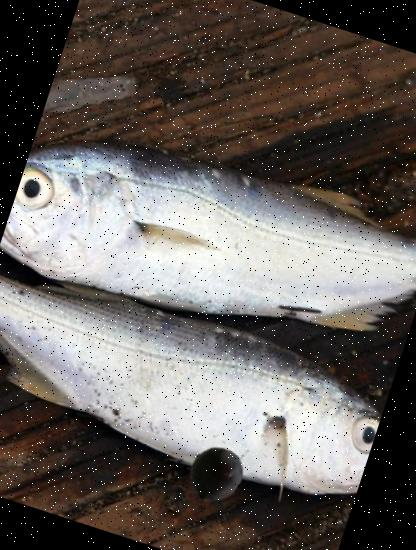Plum: (179, 438, 251, 510)
